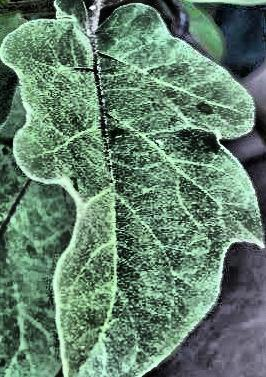HEALTHY: (0, 1, 266, 377)
